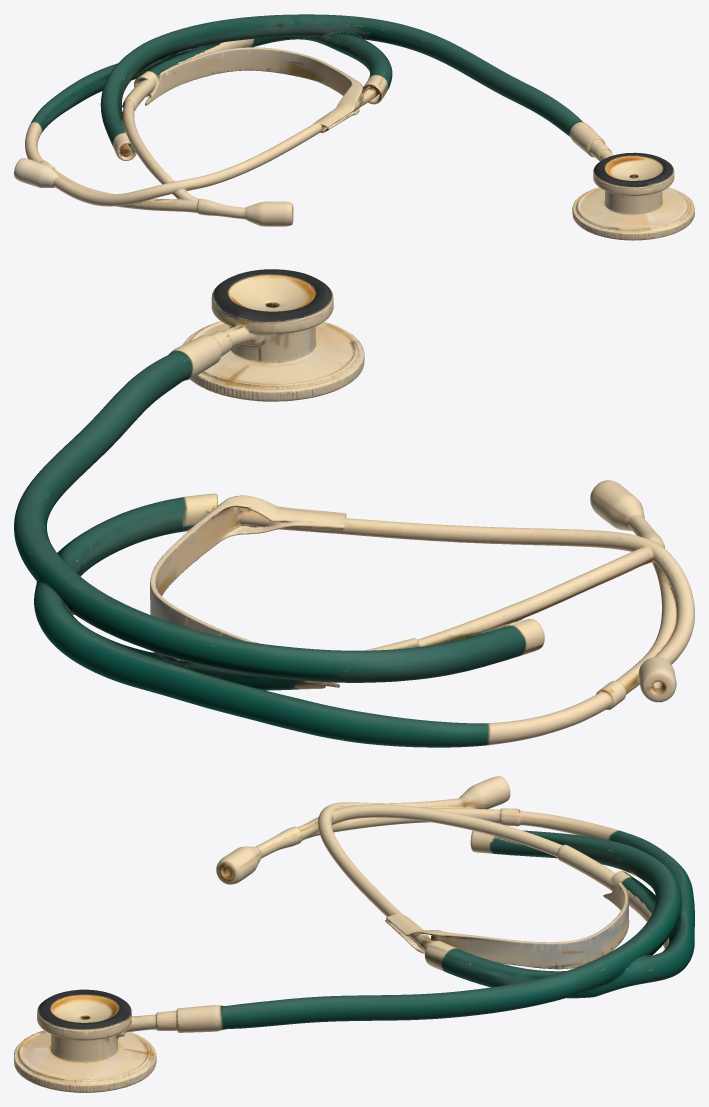
File: Meshy_AI_Stethoscope_Elegance_0201130910_texture.glb
The picture shows the model from 3 angles, top to bottom: view 1: azimuth 30°, elevation 25°; view 2: azimuth 150°, elevation 25°; view 3: azimuth 270°, elevation 25°; orthographic projection. The views are drawn at different scales.
Size of the model in its own units: 1.97 by 0.2294 by 2.
1 material, 1 textured.
